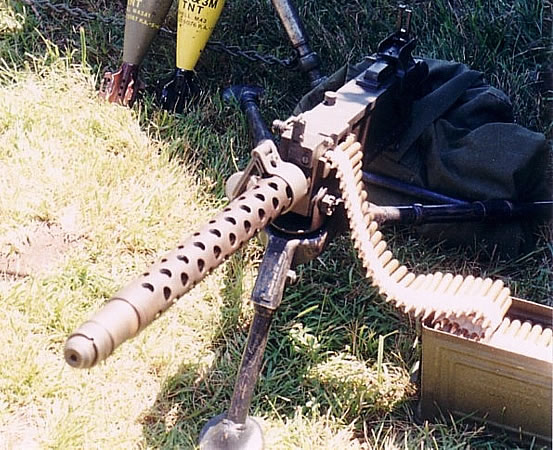rifle: (1, 70, 427, 420)
